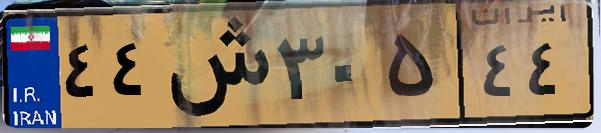0: (330, 28, 385, 110)
3: (270, 28, 330, 110)
4: (57, 26, 110, 100), (475, 38, 525, 113), (525, 38, 570, 115), (110, 28, 158, 98)
5: (385, 28, 445, 110)
ش: (158, 12, 270, 120)
